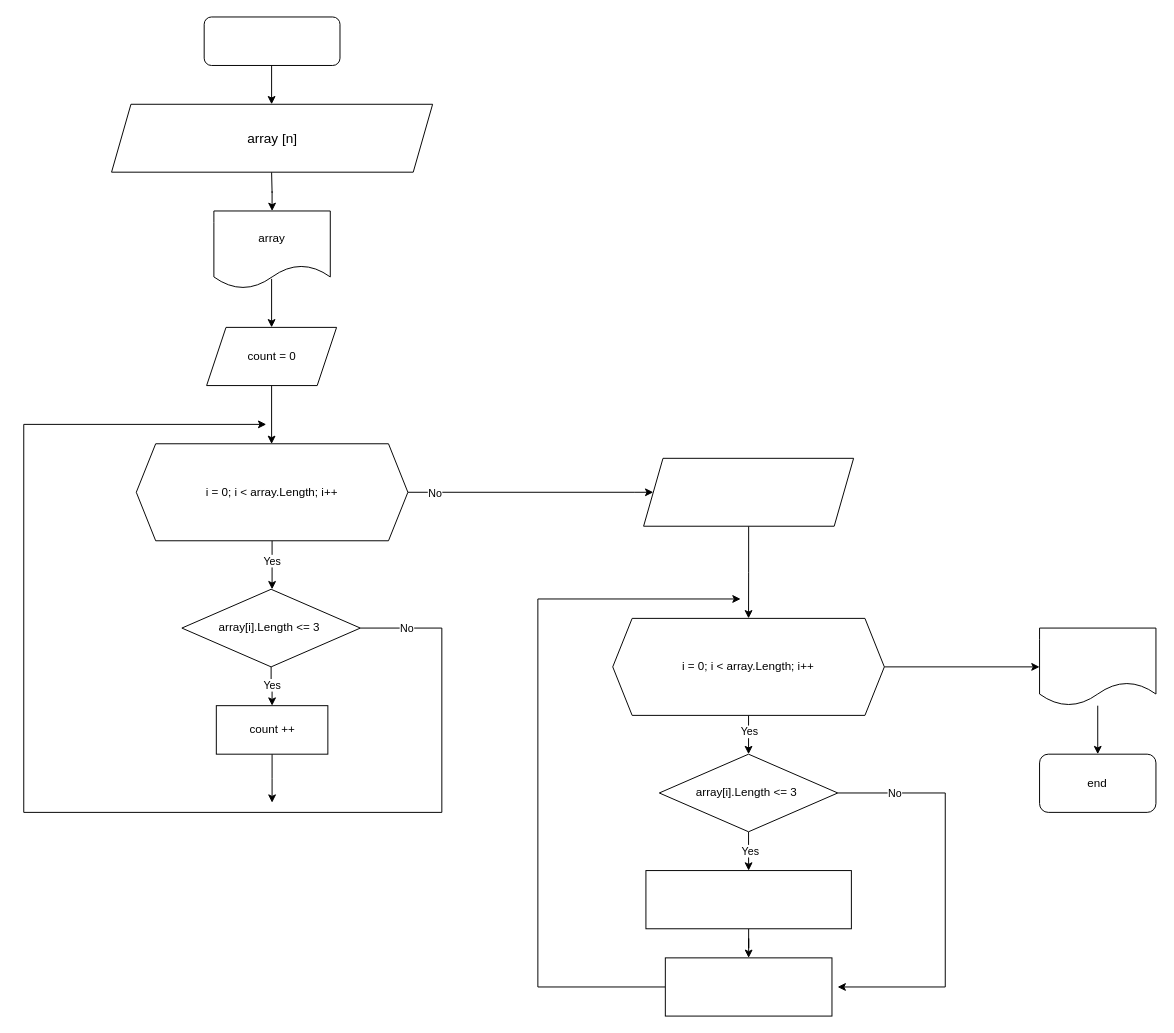
Some shapes in this 1174 by 1033 pixel diagram are drawn without their labels. The centre of each missing label's shape, as x and y in pixels:
"index ++" belongs at (748,986).
"resArray" belongs at (1097,666).
"resArray[count] index = 0" belongs at (748,491).
"resArray[index] = array[i]" belongs at (748,899).
"start" belongs at (271,40).
